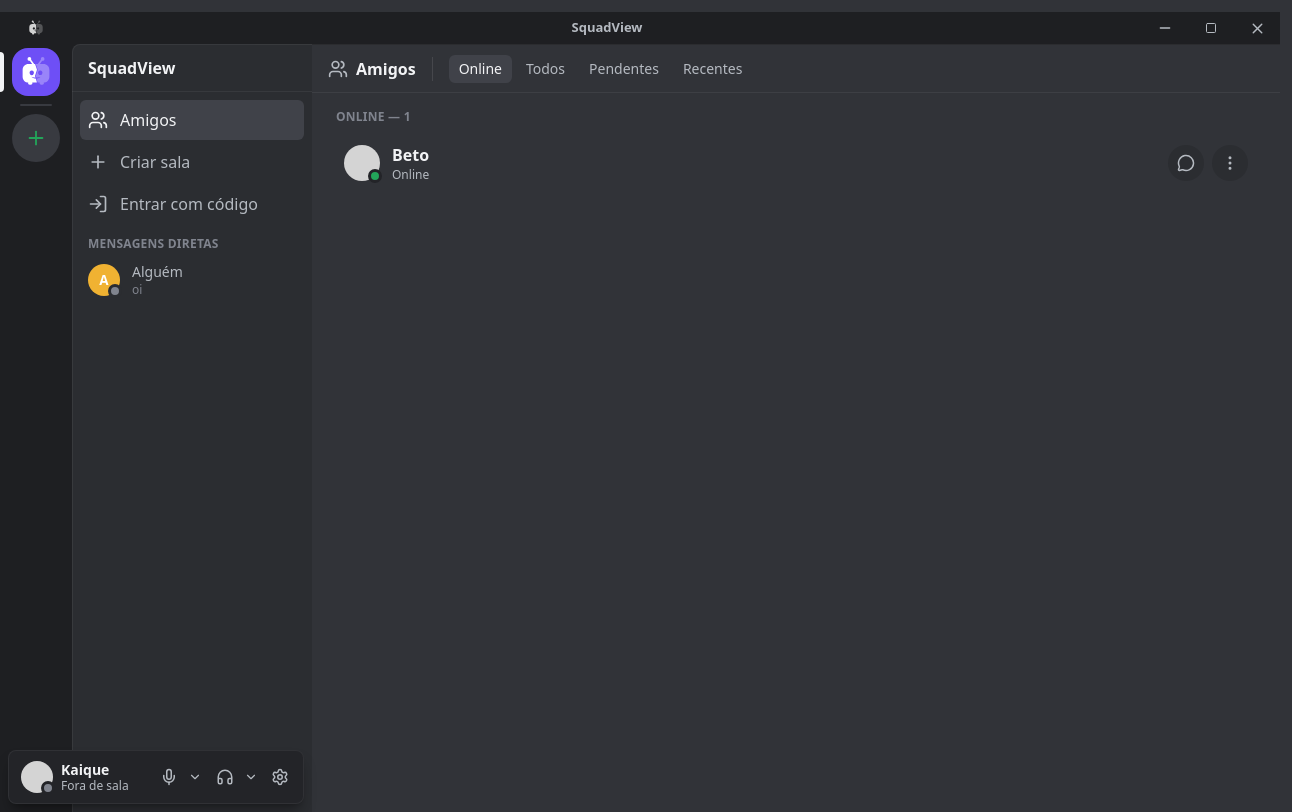
Test: mensagens privadas › anexo que sumiu do PC fica como cartão; amigo que saiu da lista aparece como Alguém
The image size is (1292, 812).
Step 1. Click the button named "Mensagem" → (1186, 163), box [1168,145,1204,181]
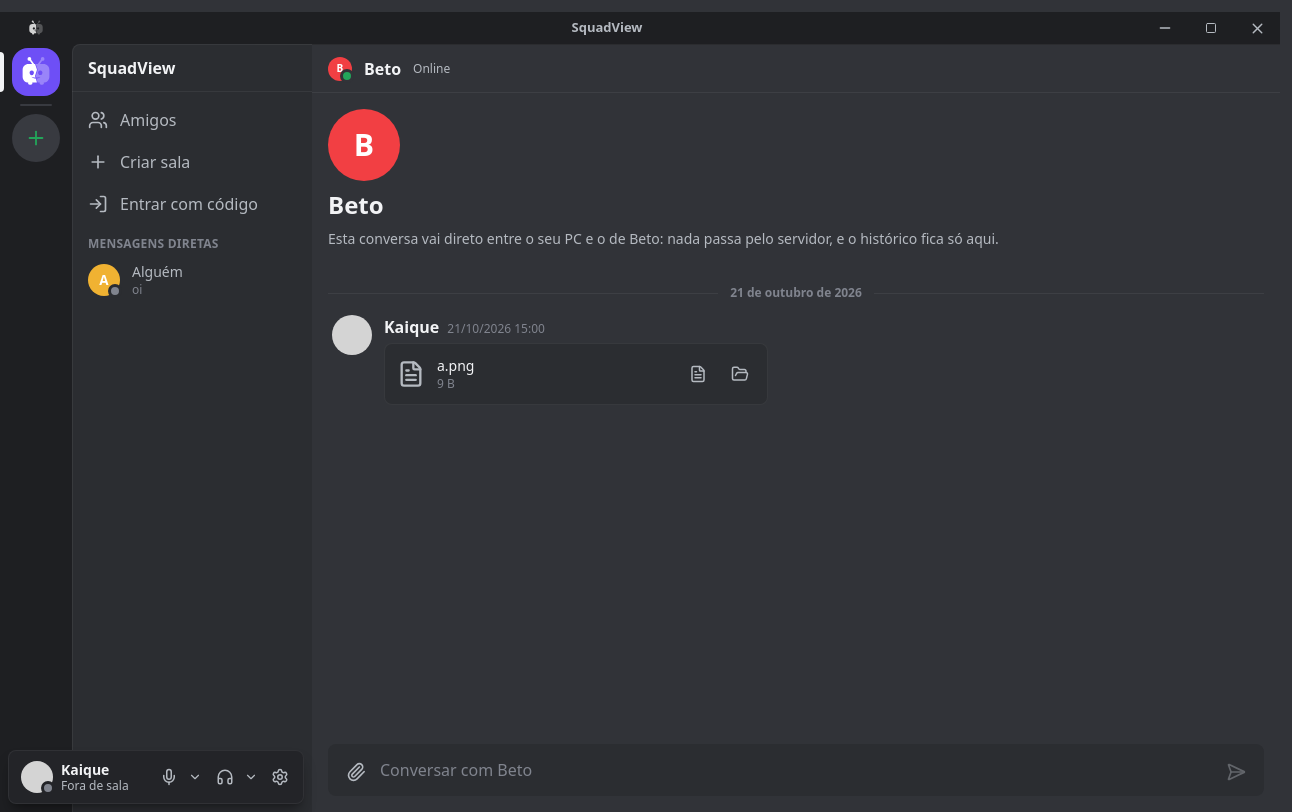
expect the button with aria-label "Conversa com Alguém" is shown: met, box [80,256,304,304]
expect the text "a.png" is shown: met, box [437,356,474,375]
